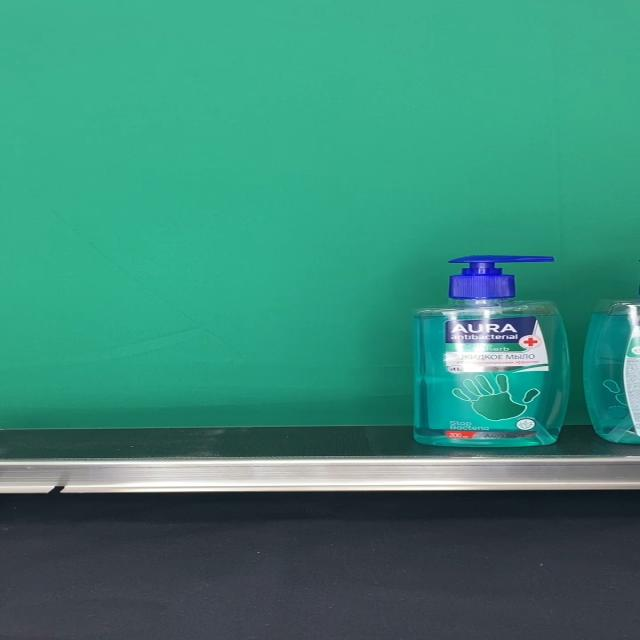Bottle: (413, 255, 569, 448)
Cap: (449, 256, 557, 300)
